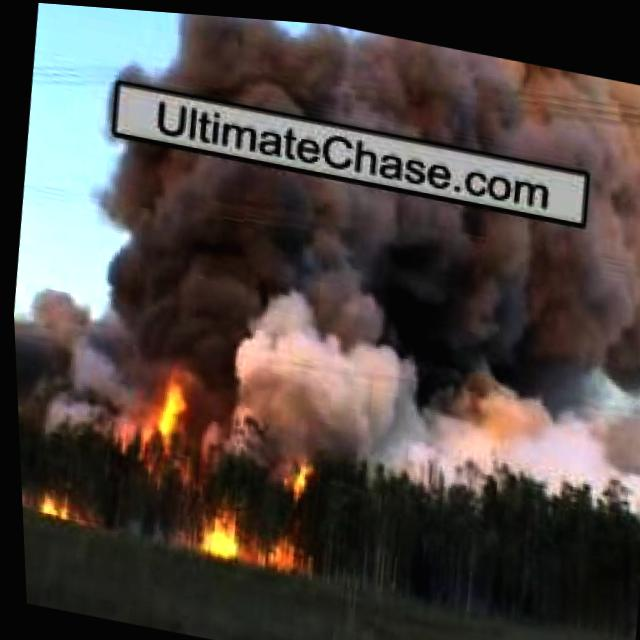helmet: (4, 123, 640, 506), (125, 7, 640, 170), (267, 439, 317, 569), (182, 484, 241, 560), (149, 364, 194, 453), (27, 488, 72, 517)
